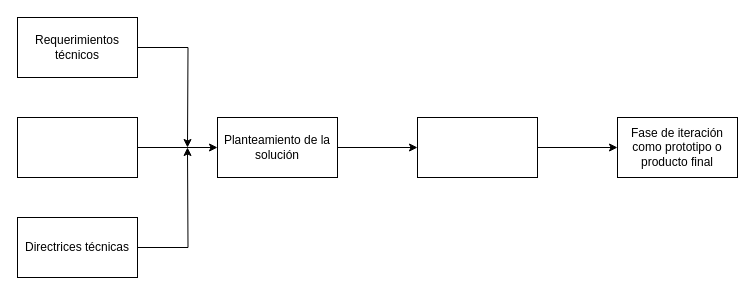
This 755x295 diagram has some shape labels left out. The shapes that lost their labels are listed below. From the top down, each one's centre as x and y in pixels, then its label:
the point at 77,147: Identificación de la necesidad y alcance
the point at 477,147: Implementación de IoT
